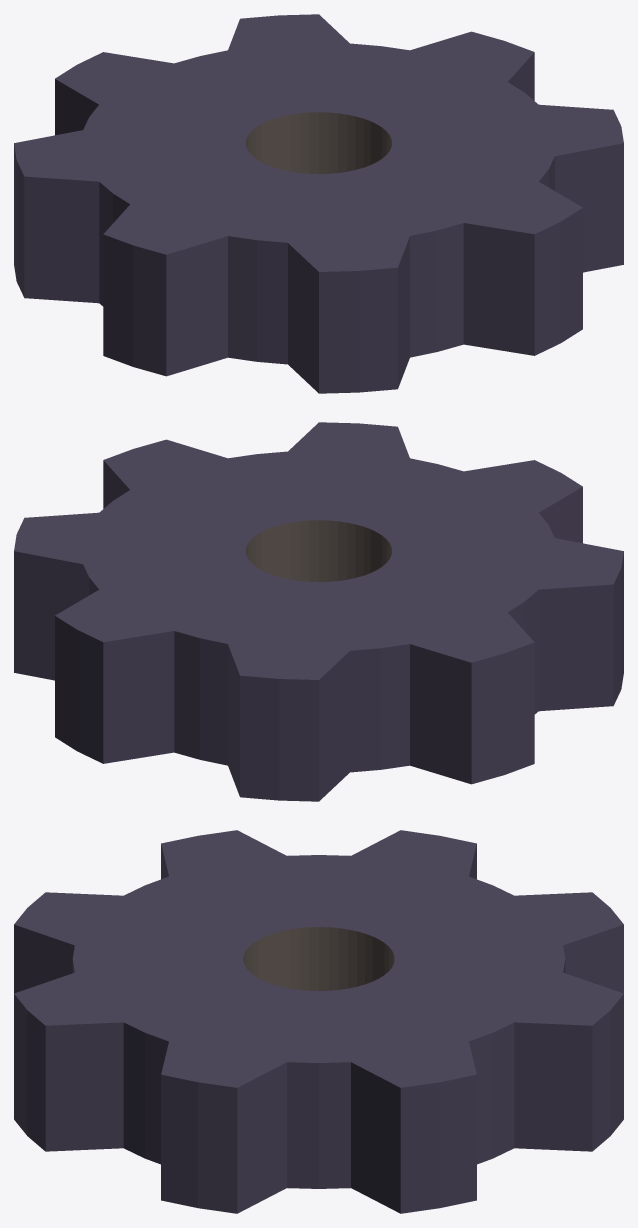
File: WorkshopGear.obj
3 views of the same model, one above another, from view 1: azimuth 30°, elevation 25°; view 2: azimuth 150°, elevation 25°; view 3: azimuth 270°, elevation 25° (orthographic). The views are drawn at different scales.
Parts seen in each view (by area): view 1: WorkshopGear; view 2: WorkshopGear; view 3: WorkshopGear.
Part boxes in pixels (box(x1,y1,x2,y2)): WorkshopGear: box(14, 14, 623, 393); WorkshopGear: box(14, 422, 623, 801); WorkshopGear: box(14, 830, 623, 1213).
Size of the model in its own units: 0.9659 by 0.22 by 0.9659.
